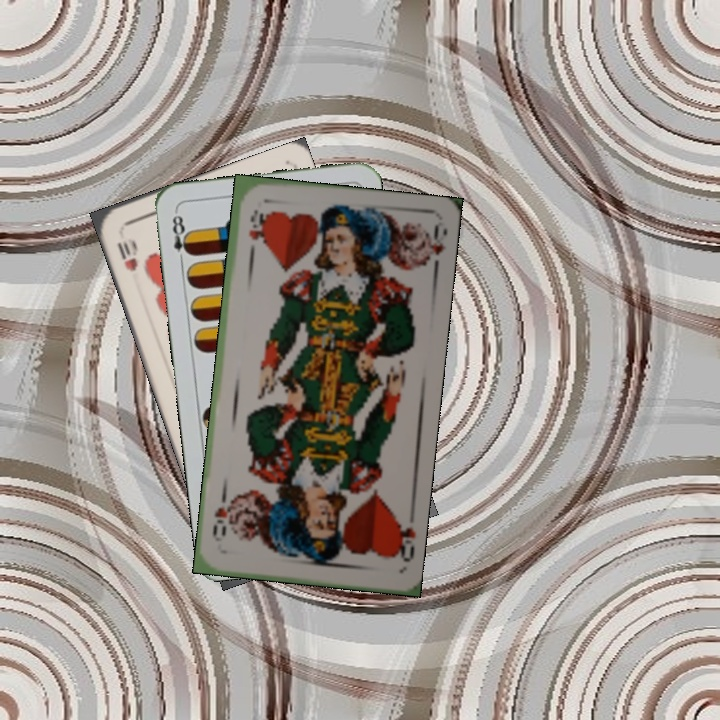E8: (168, 207, 194, 267)
H10: (113, 237, 141, 274)
HO: (388, 510, 418, 565), (245, 205, 265, 261)
